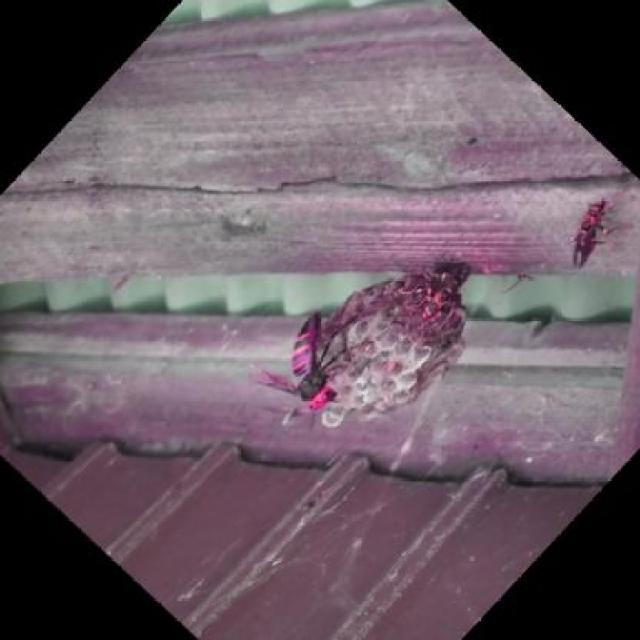Wasp: (278, 310, 344, 412)
